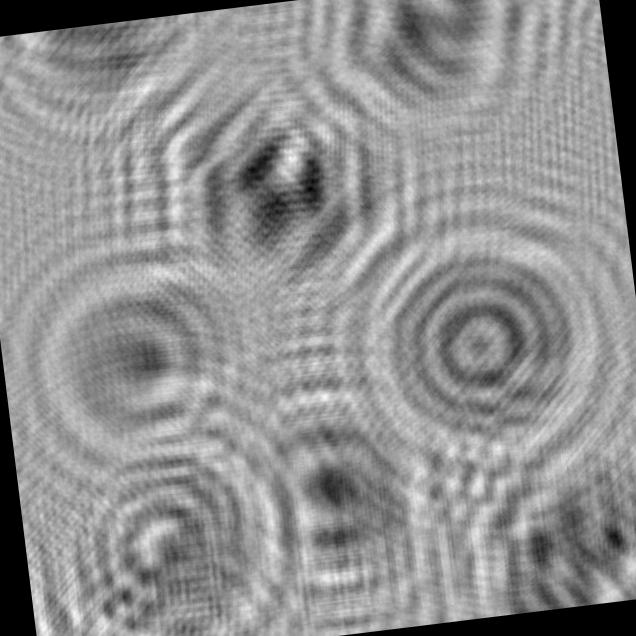C: (12, 403, 315, 636)
F: (207, 350, 475, 636)
J: (0, 214, 301, 494)
N: (426, 411, 636, 622)
Q: (330, 171, 636, 511)
R: (0, 9, 236, 158)
W: (121, 26, 438, 332)
Z: (300, 0, 576, 160)
